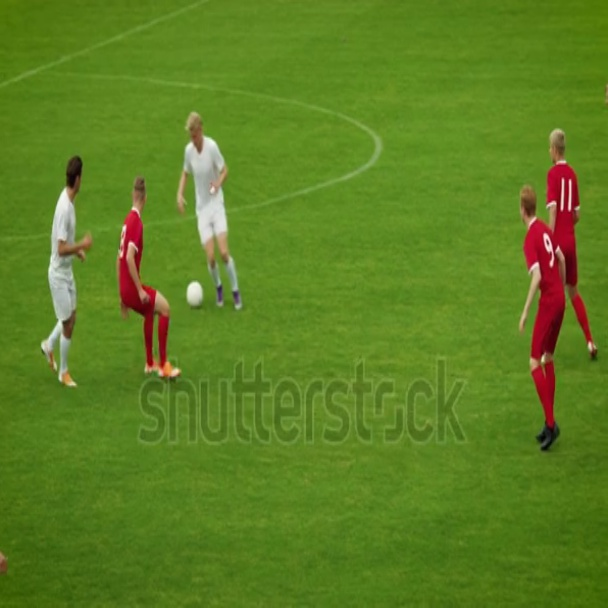ball: (188, 278, 205, 313)
